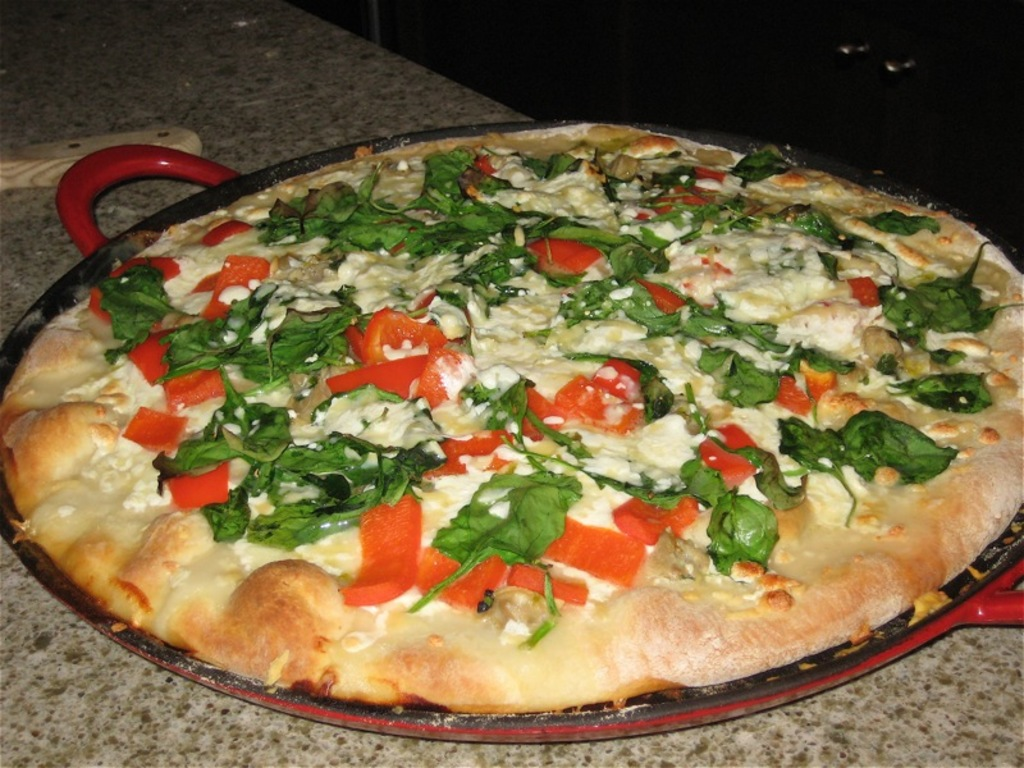Pizza: (0, 120, 1022, 711)
